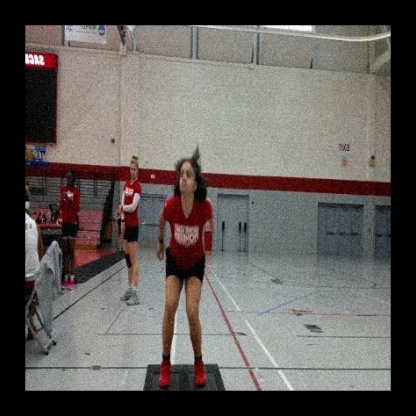lateral_flexion_right: (152, 147, 220, 391)
stance_width_normal: (153, 191, 216, 391)
